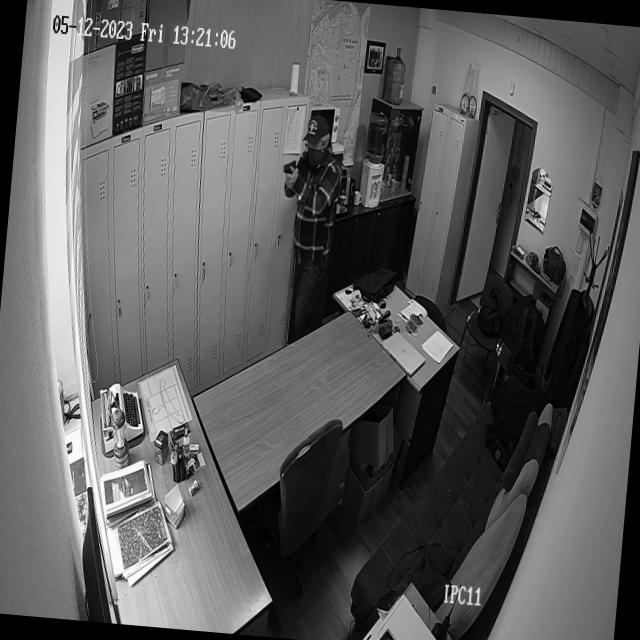gun: (274, 152, 298, 182)
person with a gun: (282, 100, 358, 334)
